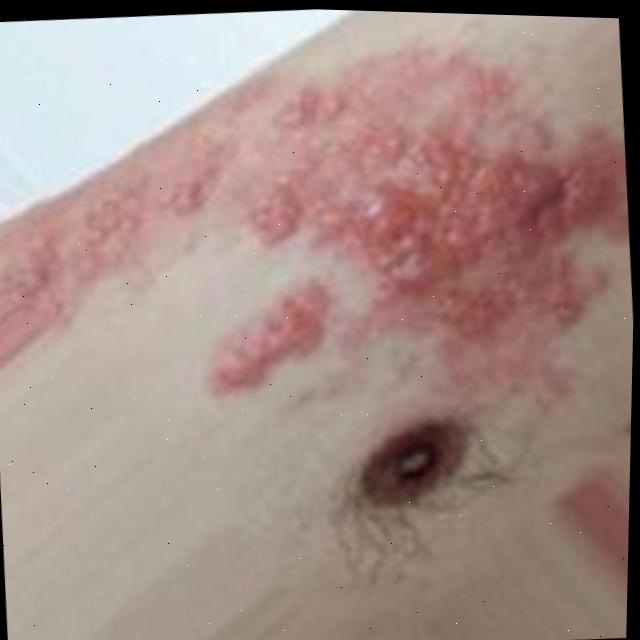Shingles: (45, 61, 639, 425)
